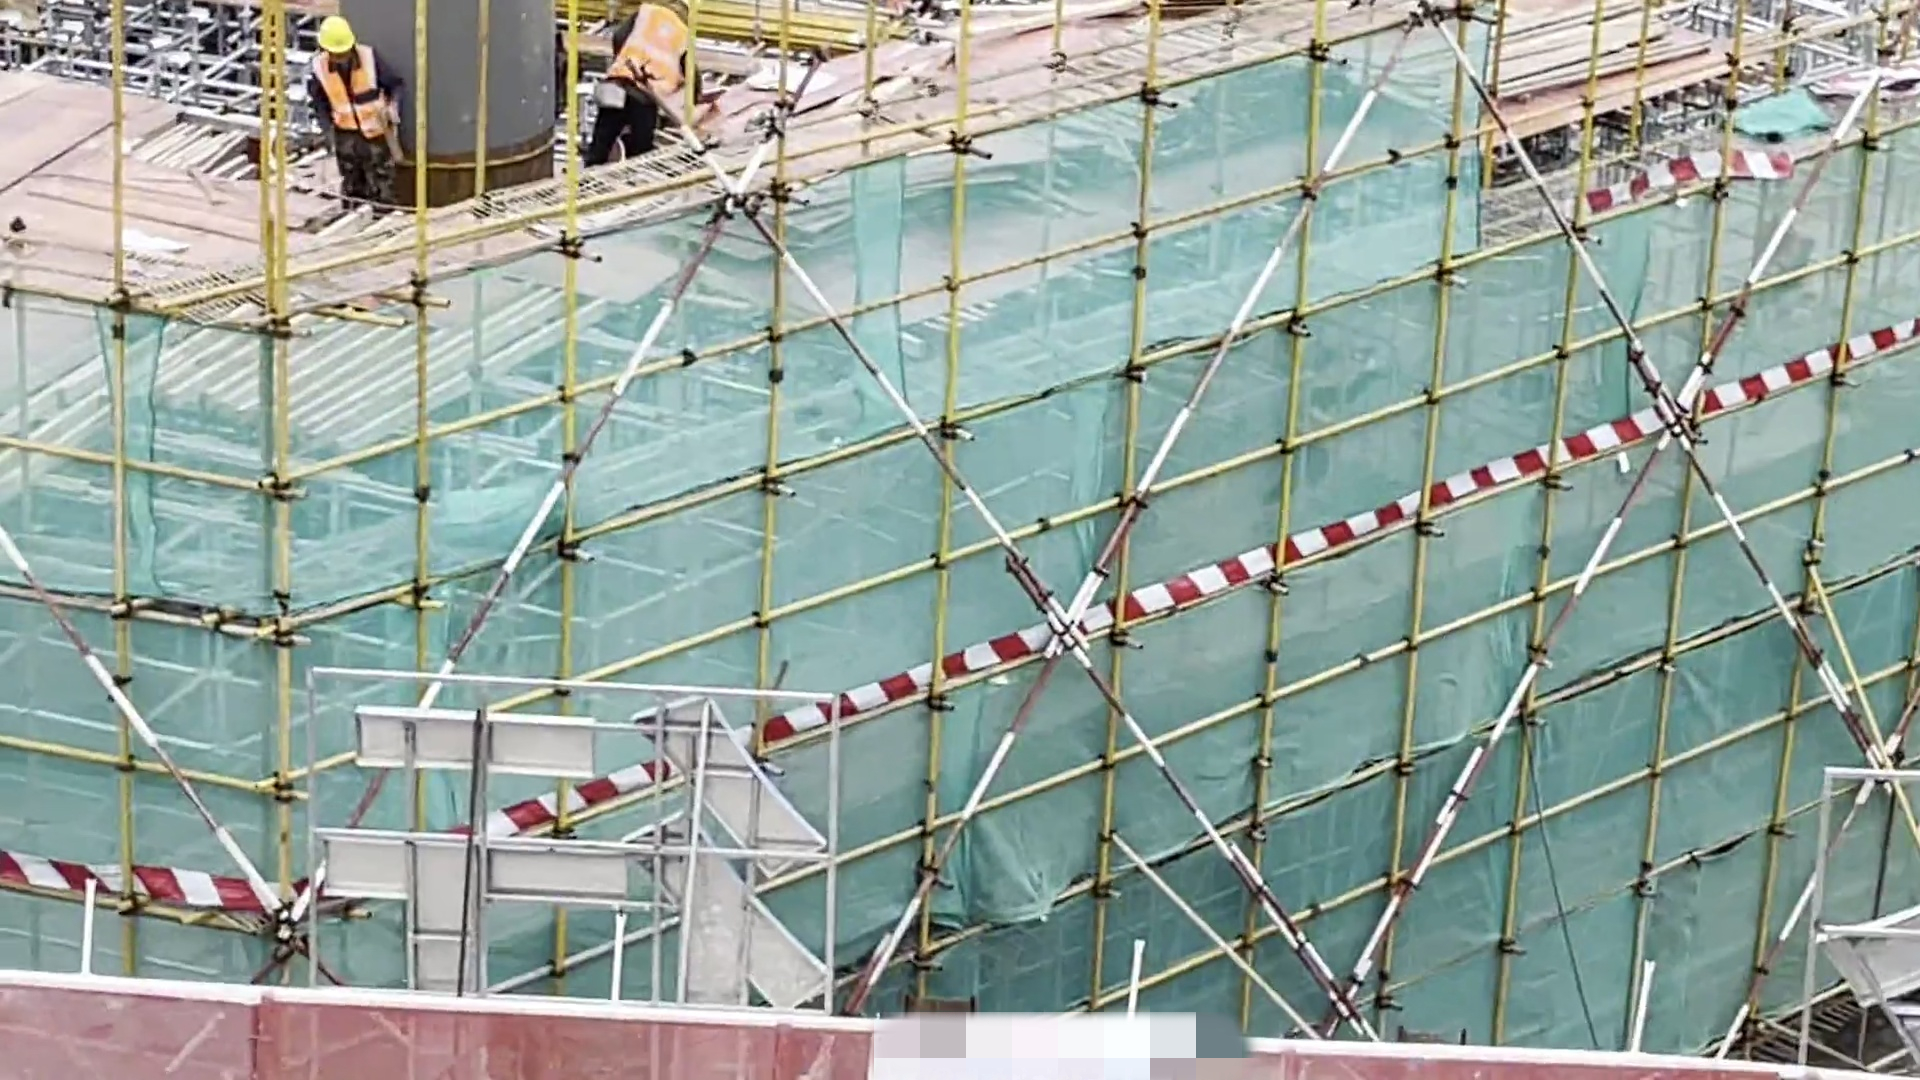helmet: (306, 10, 368, 62)
person: (294, 10, 411, 201), (587, 4, 701, 168)
vest: (607, 10, 691, 99), (311, 64, 398, 128)
